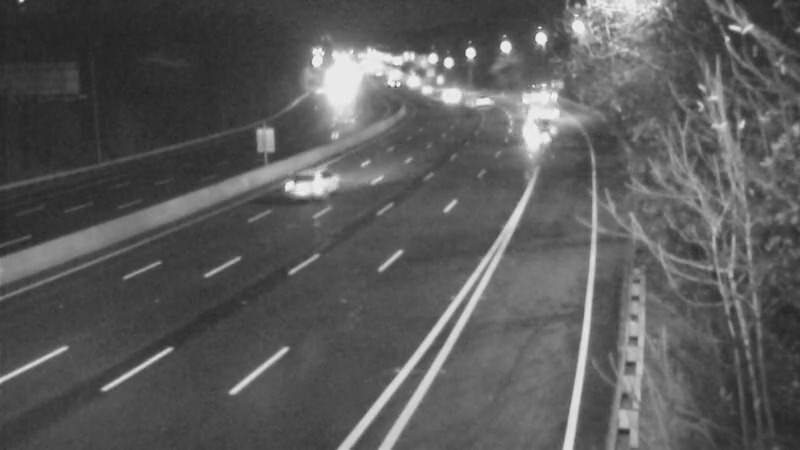vehicle: (259, 144, 339, 224), (420, 65, 470, 115), (456, 73, 506, 123), (515, 75, 565, 125), (512, 110, 562, 160)
